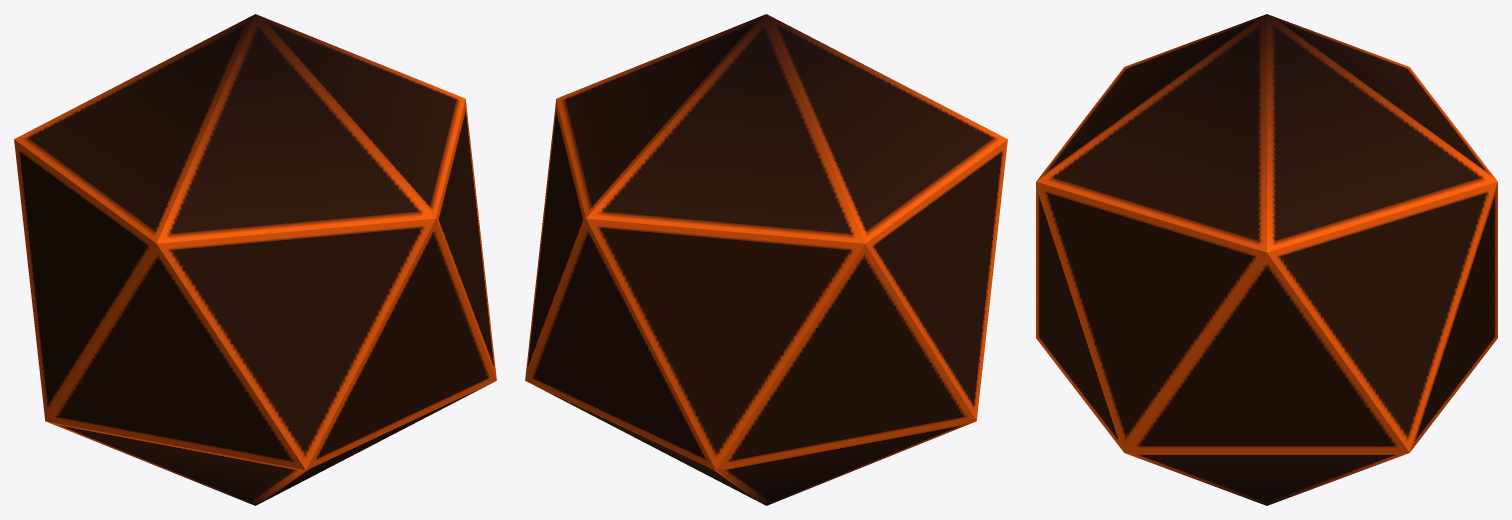
File: bullet.glb
3 views of the same model, side by side, from view 1: azimuth 30°, elevation 25°; view 2: azimuth 150°, elevation 25°; view 3: azimuth 270°, elevation 25° (orthographic).
Visible parts, largest first — view 1: Bullet; view 2: Bullet; view 3: Bullet.
Part boxes in pixels (box(x1,y1,x2,y2)): Bullet: box(14, 14, 496, 505); Bullet: box(525, 14, 1007, 505); Bullet: box(1036, 14, 1497, 505).
Bounding box in the file's own units: 0.4472 × 0.5 × 0.4253.
1 material, 1 textured.
